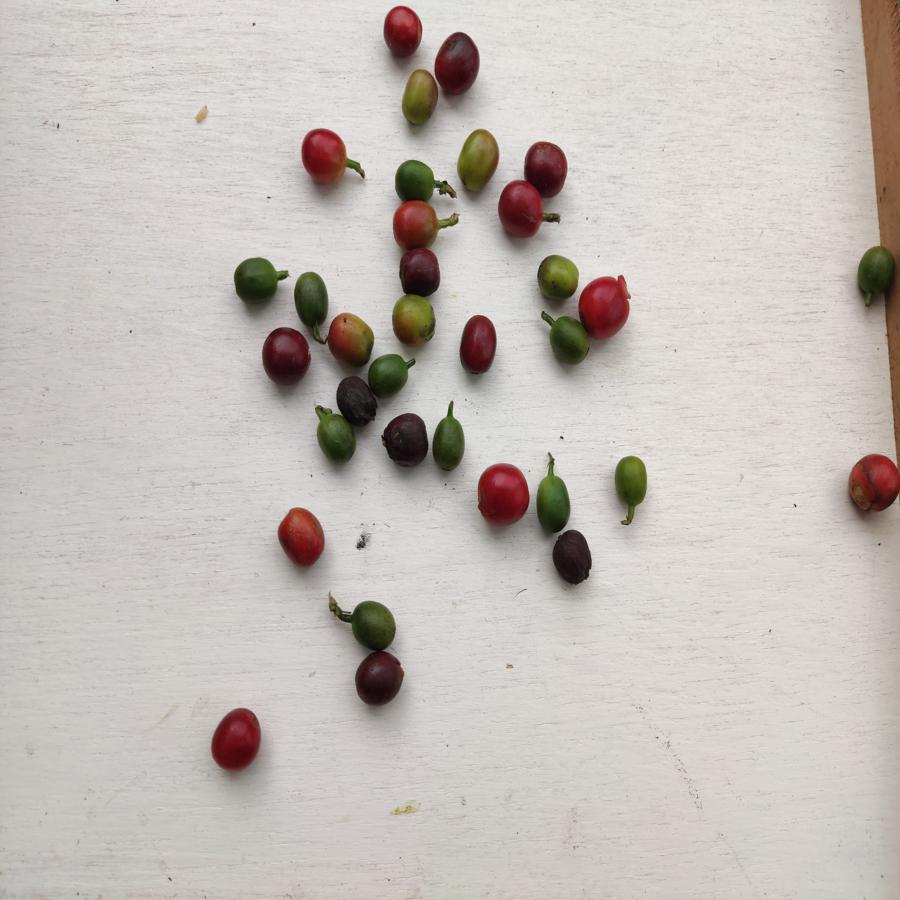Inmaduro: (351, 596, 397, 651), (534, 472, 571, 533), (854, 243, 894, 299), (431, 413, 468, 471), (233, 257, 279, 302), (291, 271, 329, 325), (547, 317, 591, 363), (613, 454, 652, 504), (317, 415, 356, 463), (394, 159, 437, 201), (368, 354, 410, 395)
Maduro: (476, 459, 529, 528), (845, 450, 900, 516), (210, 705, 261, 774), (279, 504, 326, 567), (581, 277, 631, 335), (299, 128, 348, 184), (497, 182, 544, 237), (380, 5, 425, 60), (394, 203, 442, 245)
Pinton: (456, 129, 499, 192), (391, 295, 439, 344), (328, 312, 374, 362), (401, 69, 439, 126), (532, 253, 578, 299)
Sobremaduro: (261, 327, 314, 385), (354, 651, 404, 709), (436, 31, 479, 95), (457, 314, 500, 377), (382, 413, 429, 470), (524, 141, 568, 196), (552, 530, 594, 586), (399, 249, 443, 296), (333, 376, 376, 423)
